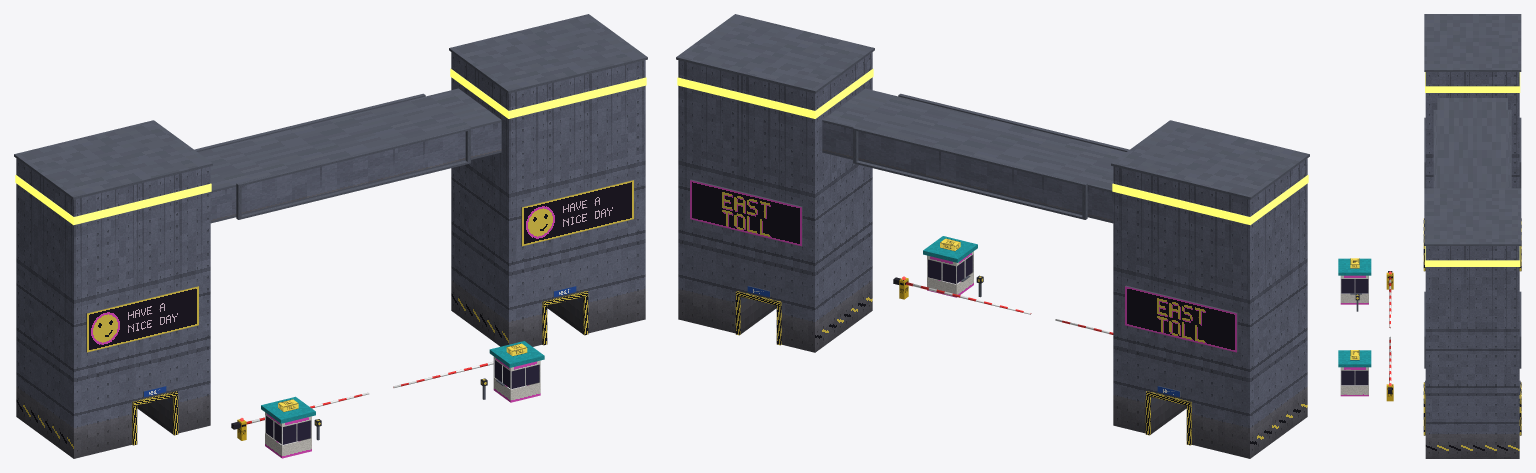
The model's file is p_jb_gate.glb.
The picture shows the model from 3 angles, left to right: view 1: azimuth 30°, elevation 25°; view 2: azimuth 150°, elevation 25°; view 3: azimuth 270°, elevation 25°; orthographic projection. The views are drawn at different scales.
Parts seen in each view (by area): view 1: gate_E_lod0; view 2: gate_E_lod0; view 3: gate_E_lod0.
Boxes of the visible parts, bbox=[...] form: gate_E_lod0: bbox=[14, 14, 647, 458]; gate_E_lod0: bbox=[676, 14, 1309, 458]; gate_E_lod0: bbox=[1338, 14, 1521, 458].
Size of what is drawn, in the model's own units: 46.24 by 20.18 by 15.55.
Materials: 6 (2 with a texture image).
